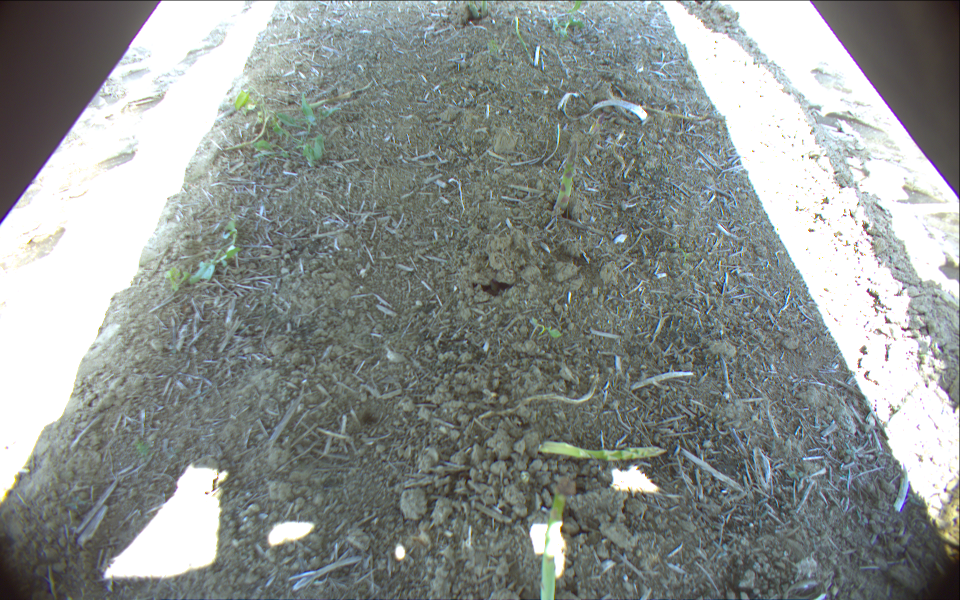aspa: (220, 82, 380, 154), (540, 492, 566, 600), (539, 437, 666, 459), (552, 140, 579, 211), (626, 100, 712, 120), (513, 15, 533, 62), (468, 1, 481, 19), (481, 1, 488, 17)
